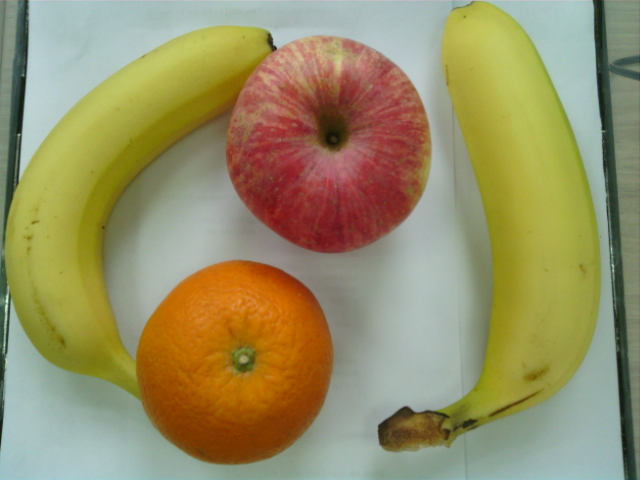normal_apple: (229, 34, 434, 249)
normal_banana: (2, 26, 272, 378), (440, 10, 603, 452)
normal_orange: (137, 260, 331, 467)
